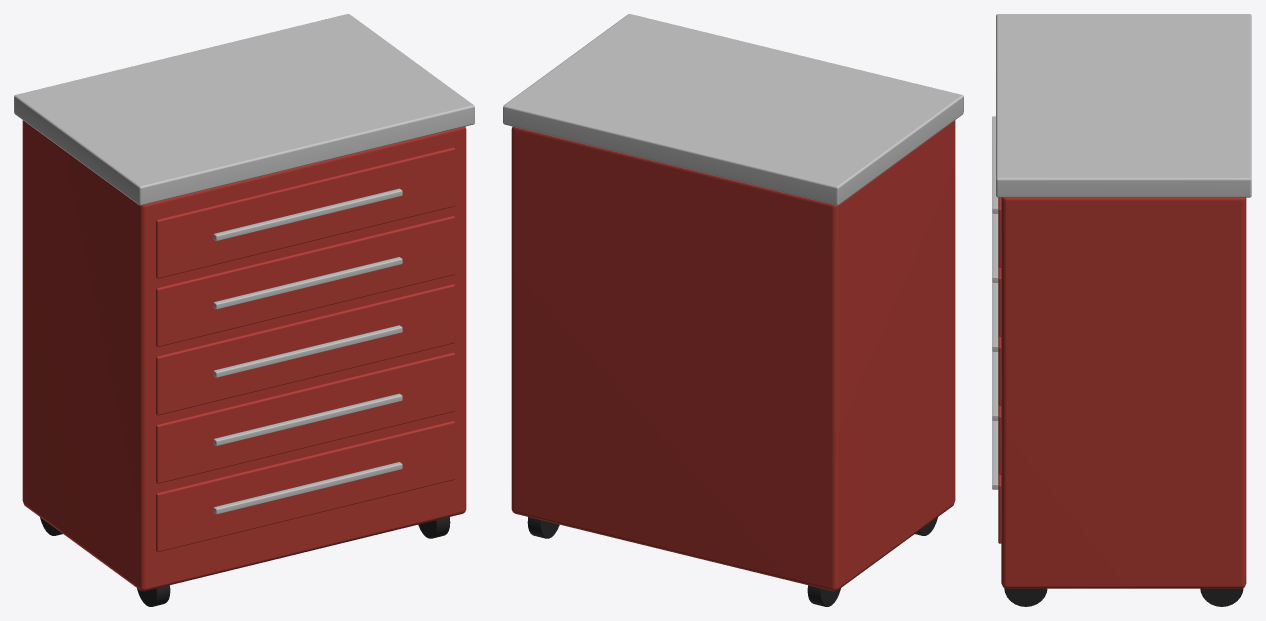
The model's file is ToolCart.fbx.
3 renders of one model, left to right at view 1: azimuth 30°, elevation 25°; view 2: azimuth 150°, elevation 25°; view 3: azimuth 270°, elevation 25°, orthographic.
Parts seen in each view (by area): view 1: ToolCart_LOD0; view 2: ToolCart_LOD0; view 3: ToolCart_LOD0.
Part boxes in pixels (<box>): ToolCart_LOD0: <box>14,14,474,606</box>; ToolCart_LOD0: <box>503,14,963,606</box>; ToolCart_LOD0: <box>992,14,1251,606</box>.
Size of what is drawn, in the model's own units: 0.72 by 0.89 by 0.477.
